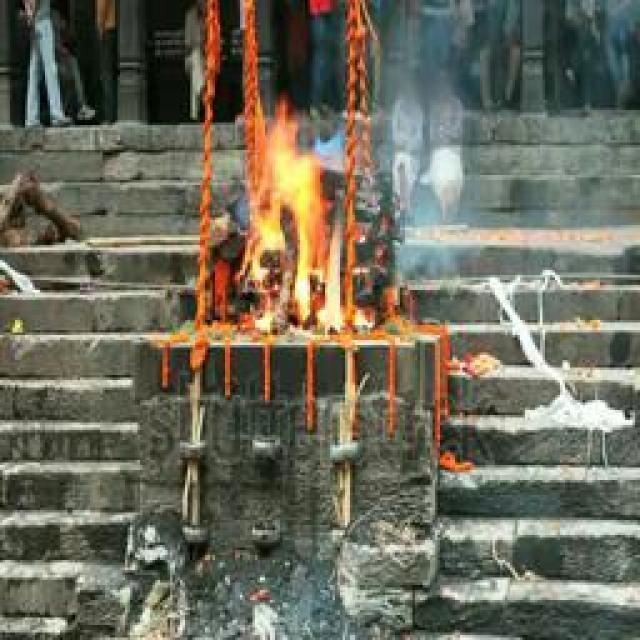Fire: (246, 93, 365, 325)
